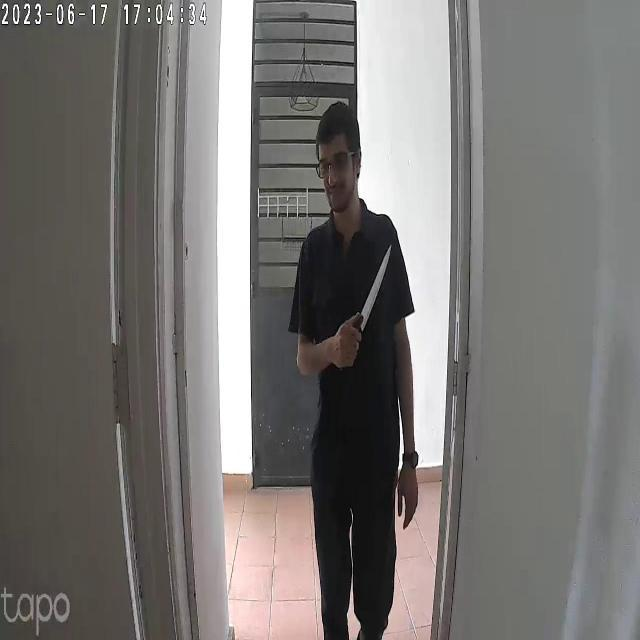Knife: (349, 238, 405, 338)
